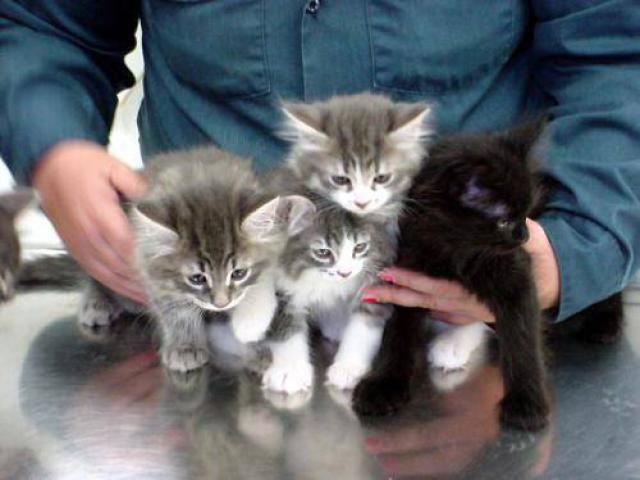cat: (121, 92, 446, 409), (353, 109, 565, 431)
